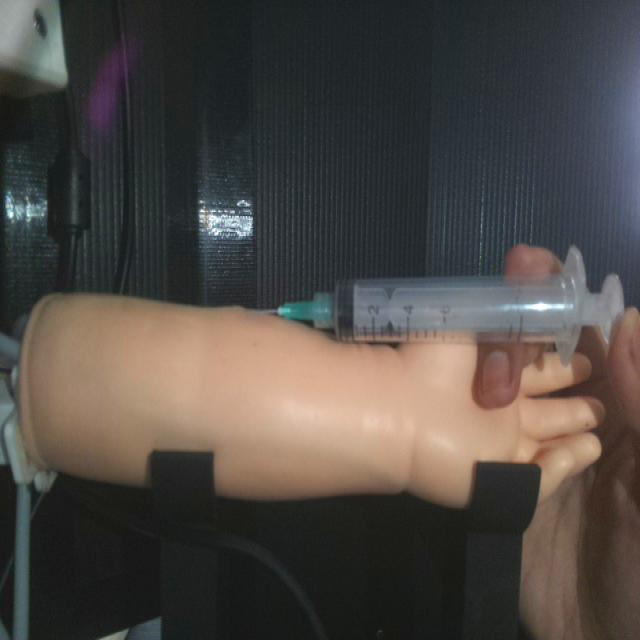Below 15 degrees: (264, 243, 626, 365)
